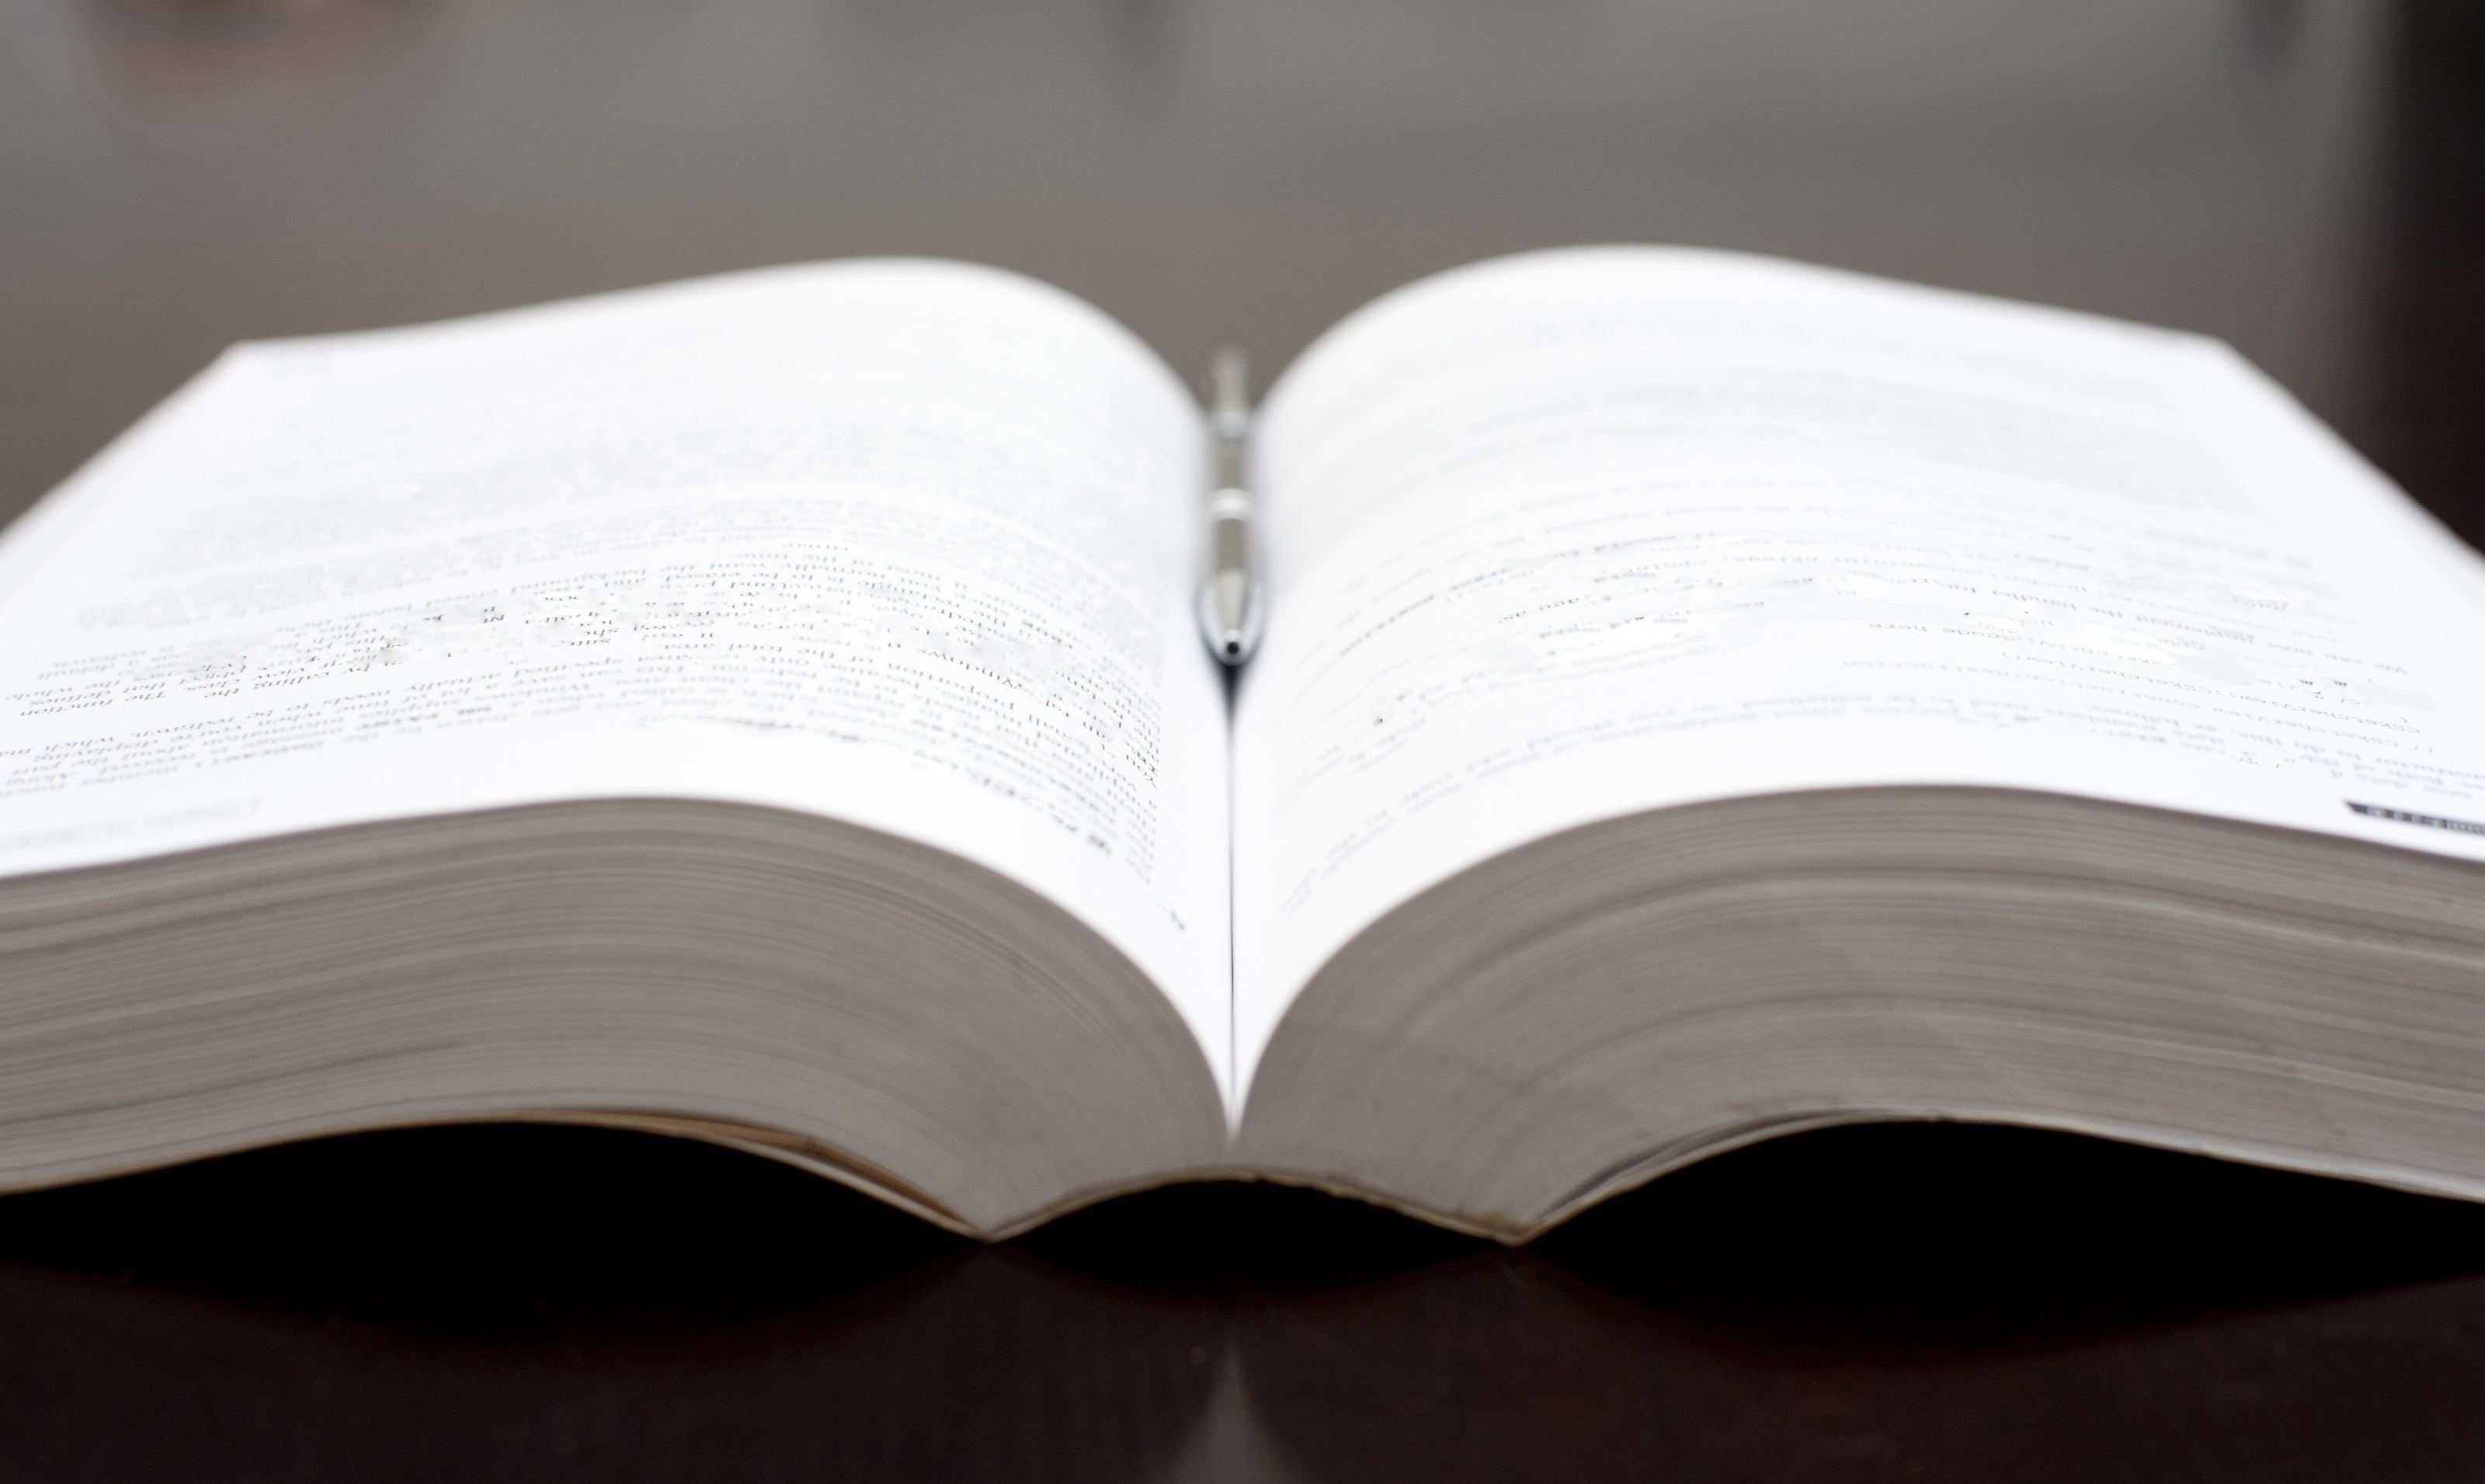Open Book: (35, 256, 2485, 1272)
